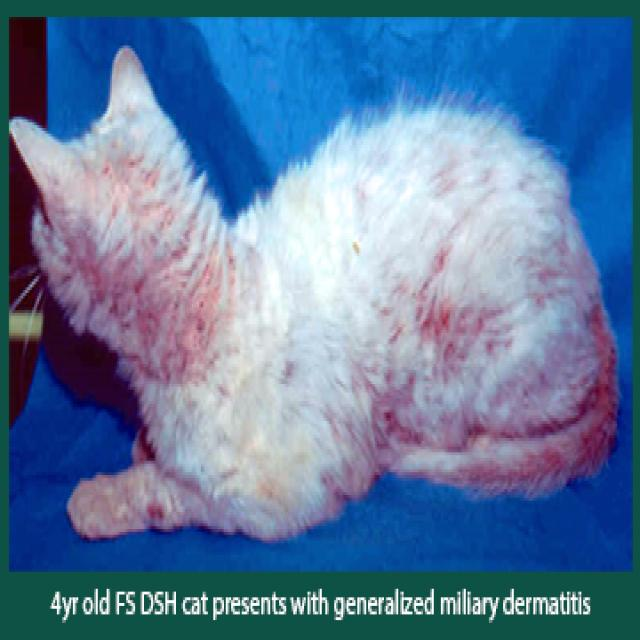di ung bo chet: (60, 157, 368, 470)
